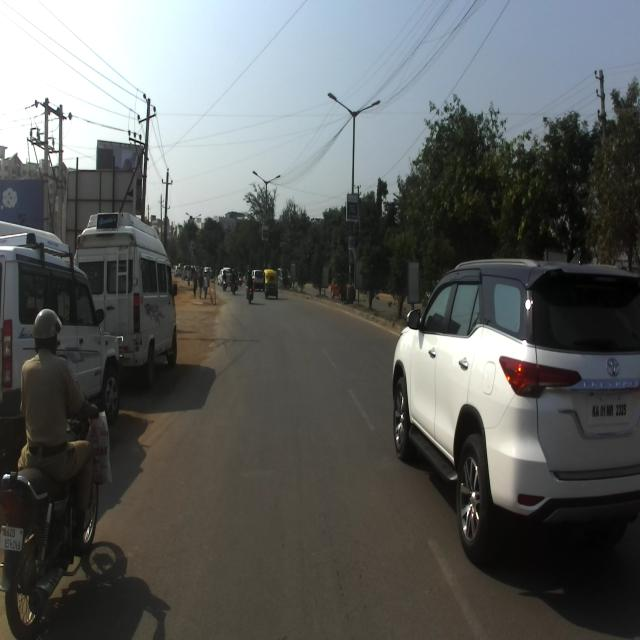car ahead at: (387, 254, 640, 548)
motorcycle ahead at: (0, 462, 114, 638), (81, 214, 181, 381), (72, 490, 78, 492)
